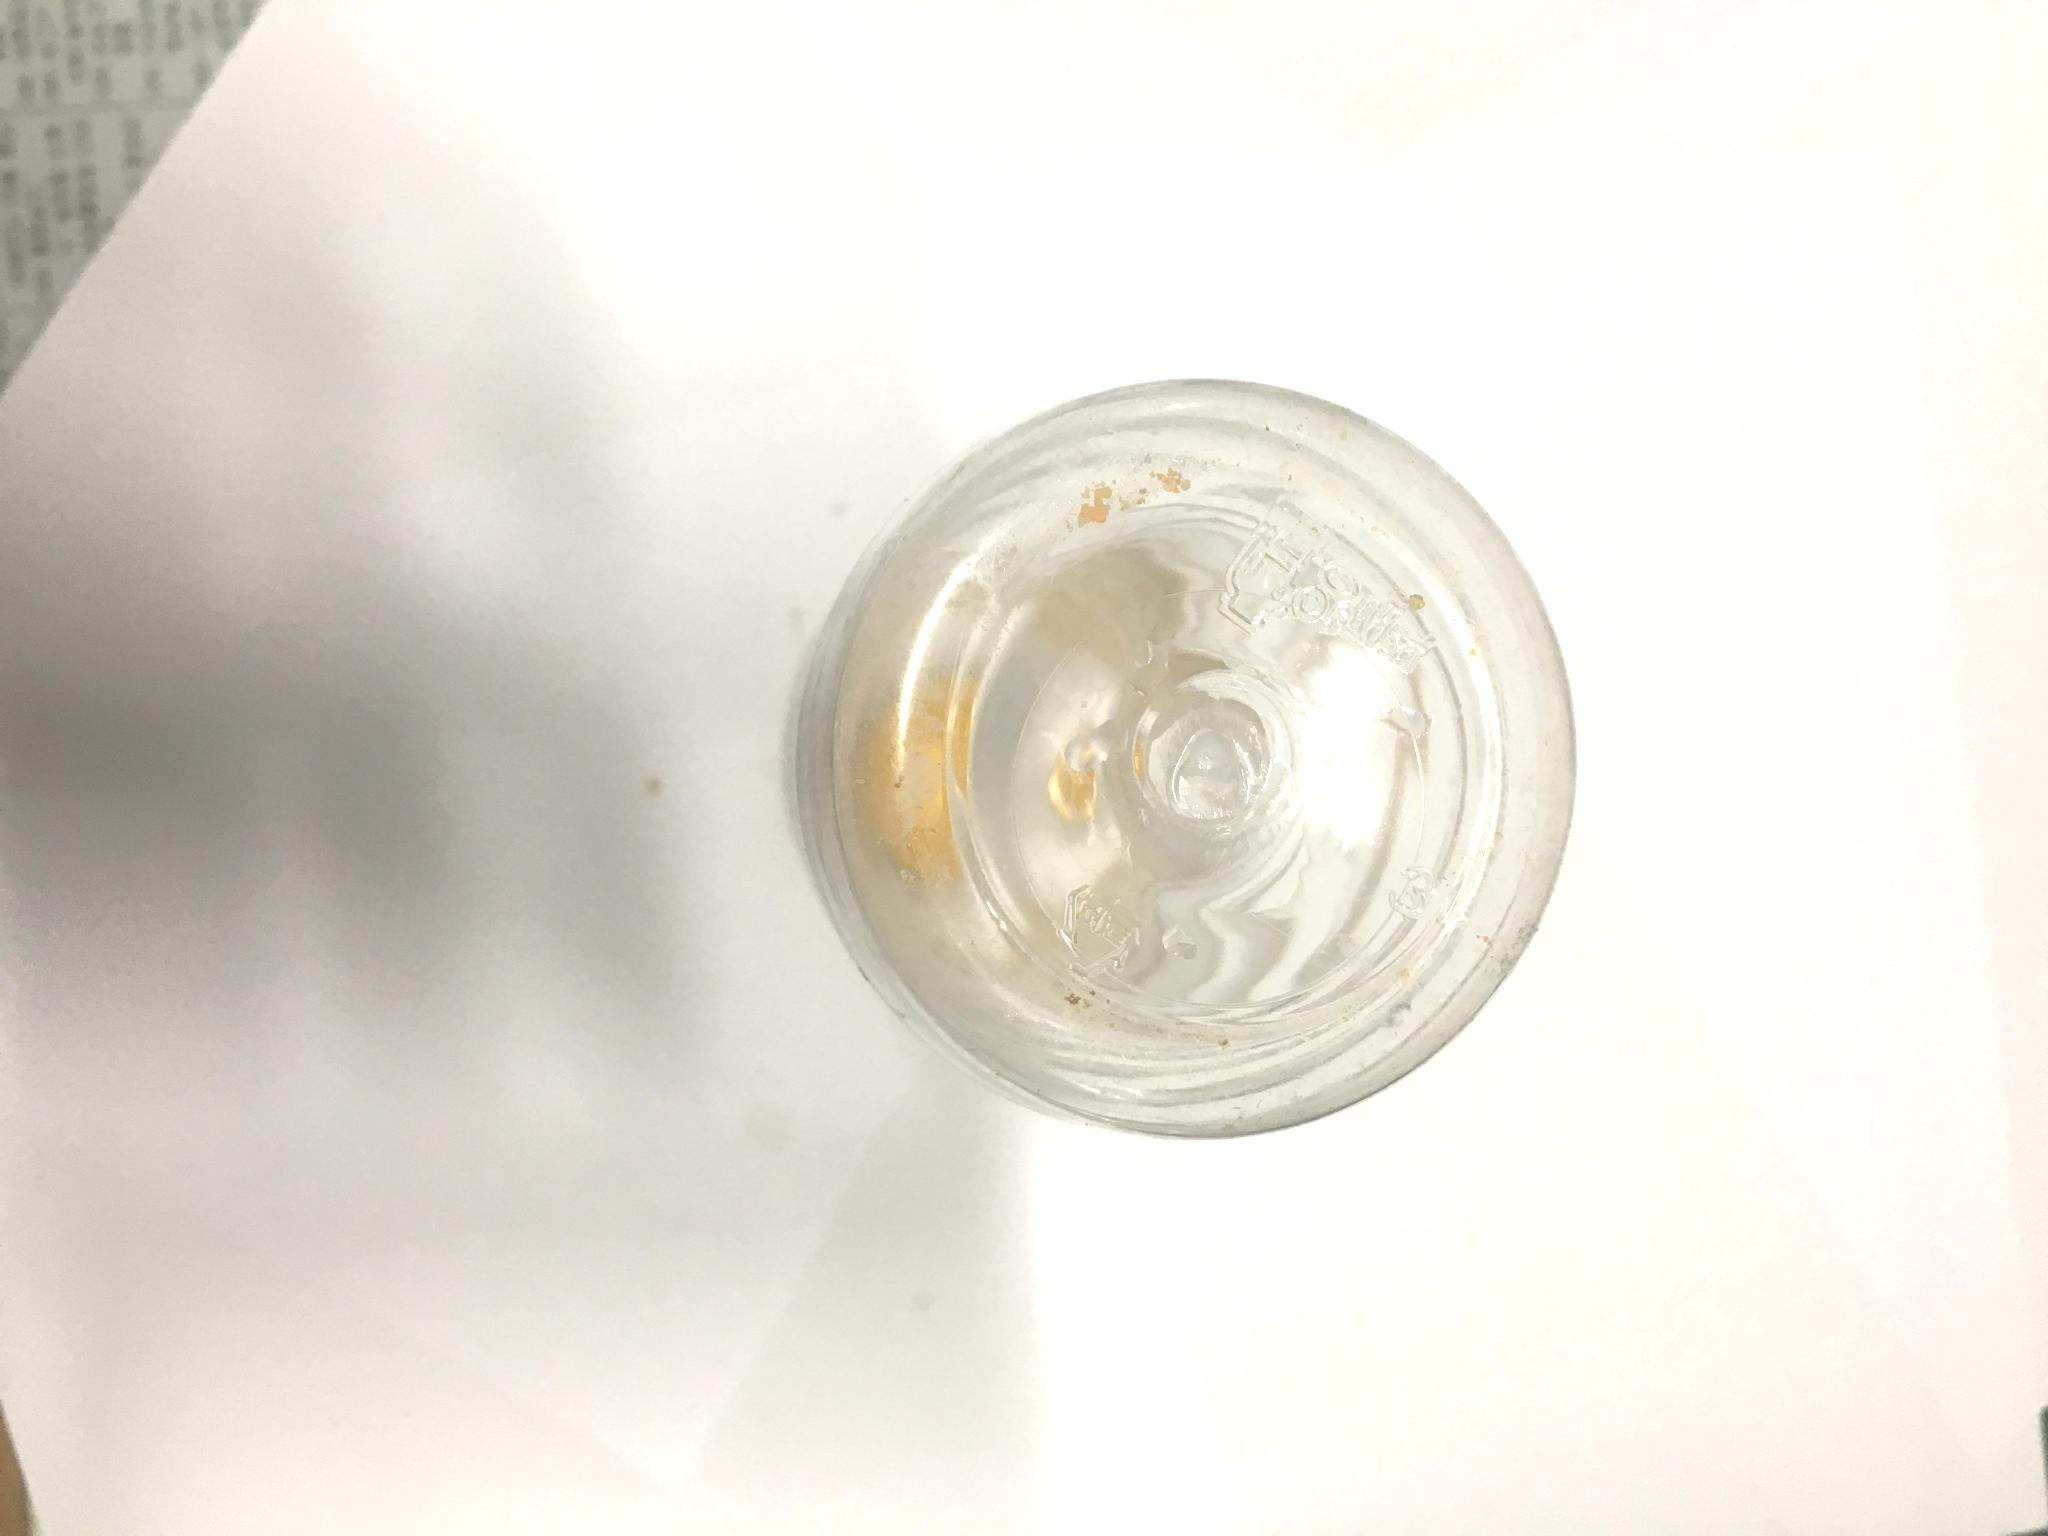bottle: (784, 360, 1598, 1154)
